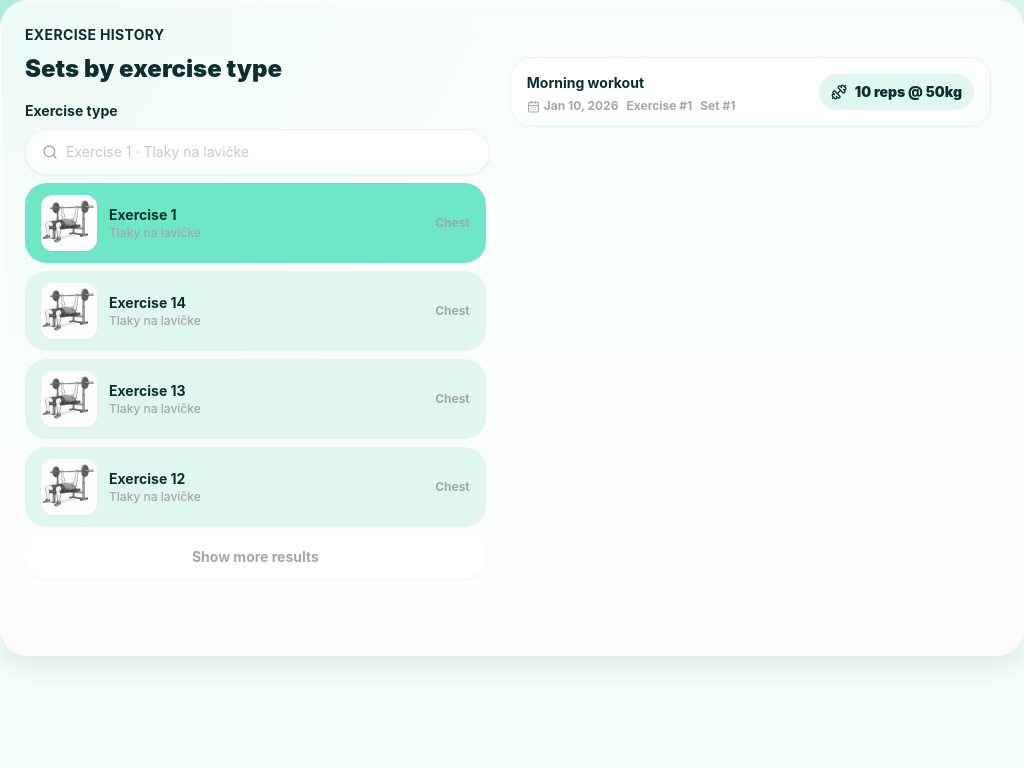
Scenario: reveals additional exercise suggestions
expect the button "Exercise 8 " is not shown: met
Click the button "Show more results" at x=255, y=557, box x1=25 y1=535 x2=486 y2=579
(page scrolled)
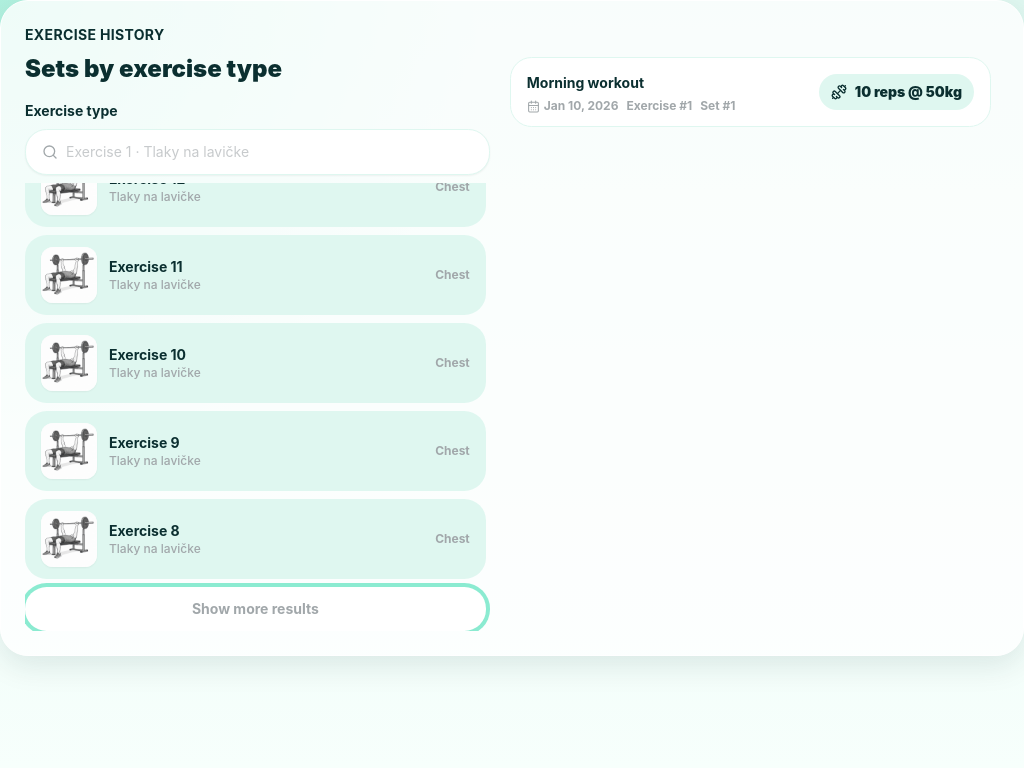
expect the button "Exercise 8 Tlaky na lavičke Chest" is shown: met, box x1=25 y1=499 x2=486 y2=579
